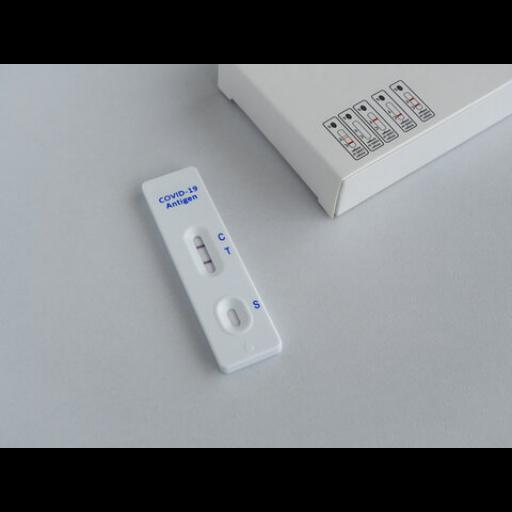Pos: (142, 164, 284, 369)
